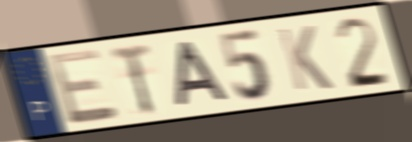2: (334, 15, 392, 91)
5: (217, 25, 277, 105)
A: (175, 38, 233, 110)
E: (44, 46, 122, 129)
K: (274, 23, 336, 94)
T: (107, 40, 158, 118)
